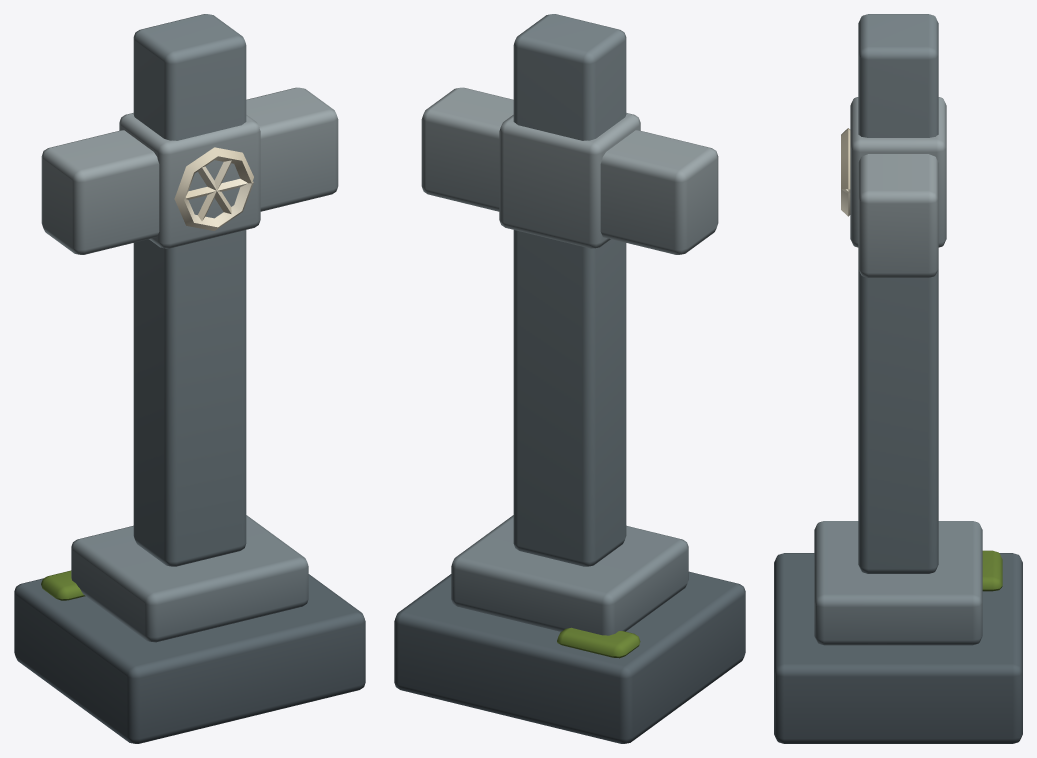
File: frith_cross.glb
3 views of the same model, side by side, from view 1: azimuth 30°, elevation 25°; view 2: azimuth 150°, elevation 25°; view 3: azimuth 270°, elevation 25° (orthographic). The views are drawn at different scales.
Visible parts, largest first — view 1: frith_cross, frith_cross_trim; view 2: frith_cross; view 3: frith_cross, frith_cross_trim.
Part boxes in pixels (<box>): frith_cross: <box>14,14,365,743</box>; frith_cross_trim: <box>174,147,253,230</box>; frith_cross: <box>394,14,745,743</box>; frith_cross: <box>774,14,1022,743</box>; frith_cross_trim: <box>841,128,850,216</box>.
Size of the model in its own units: 0.78 by 1.81 by 0.62.
